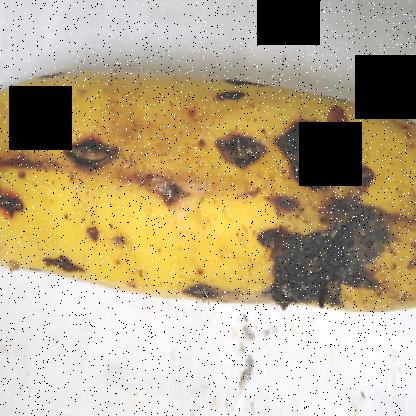rotten: (252, 207, 406, 338), (268, 103, 355, 221), (30, 233, 112, 298), (175, 243, 236, 328), (214, 116, 272, 200), (72, 126, 136, 190), (150, 167, 201, 202), (0, 165, 30, 209)
